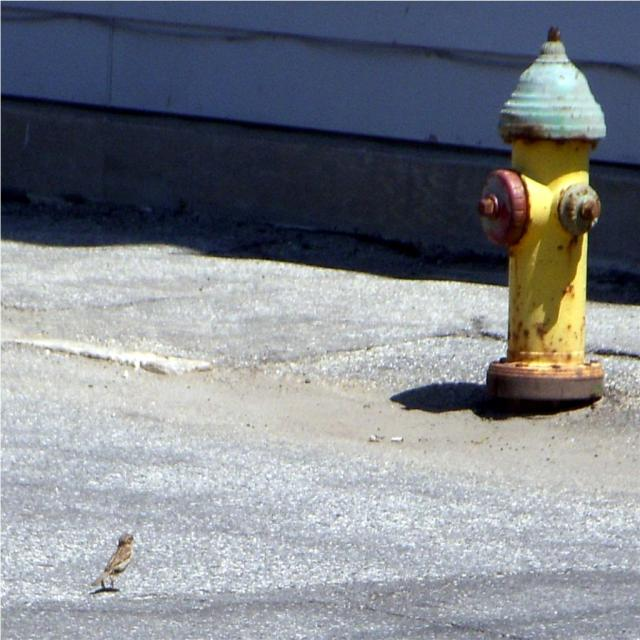fire_hydrant: (477, 26, 607, 400)
